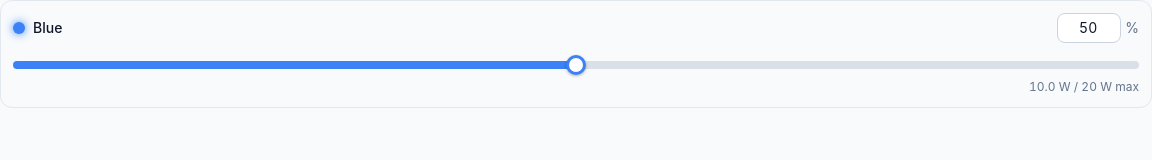
ChannelSlider › accepts manual entry and clamps out-of-range values on Enter
Replace the text in the number field named "Blue percentage" with "250": (1089, 28) [1057,13,1121,43]
Then press Enter
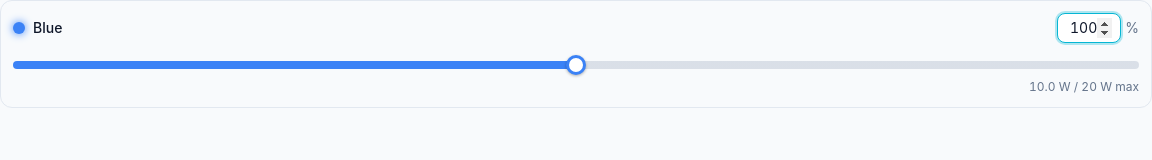
Check: the number field named "Blue percentage" holds "100", box [1057,13,1121,43]
